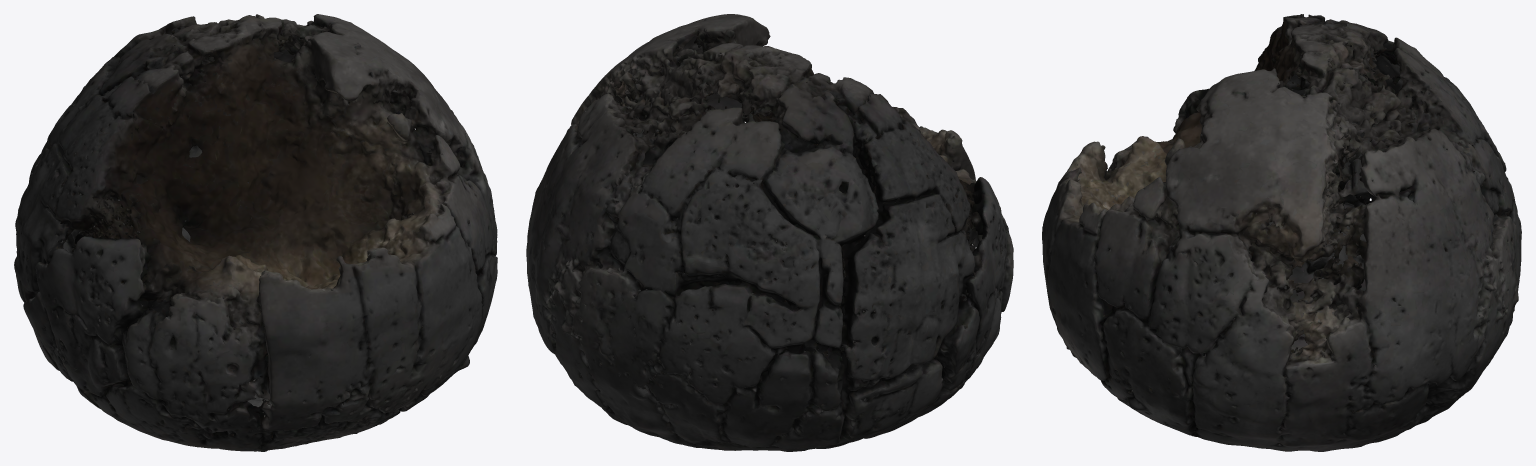
The model's file is carbonized_fig.glb.
3 renders of one model, left to right at view 1: azimuth 30°, elevation 25°; view 2: azimuth 150°, elevation 25°; view 3: azimuth 270°, elevation 25°, orthographic.
Parts seen in each view (by area): view 1: world; view 2: world; view 3: world.
Boxes of the visible parts, bbox=[...] form: world: bbox=[14, 14, 497, 451]; world: bbox=[526, 14, 1013, 451]; world: bbox=[1042, 14, 1521, 451].
Bounding box in the file's own units: 1 × 0.8114 × 0.992.
1 material, 1 textured.
